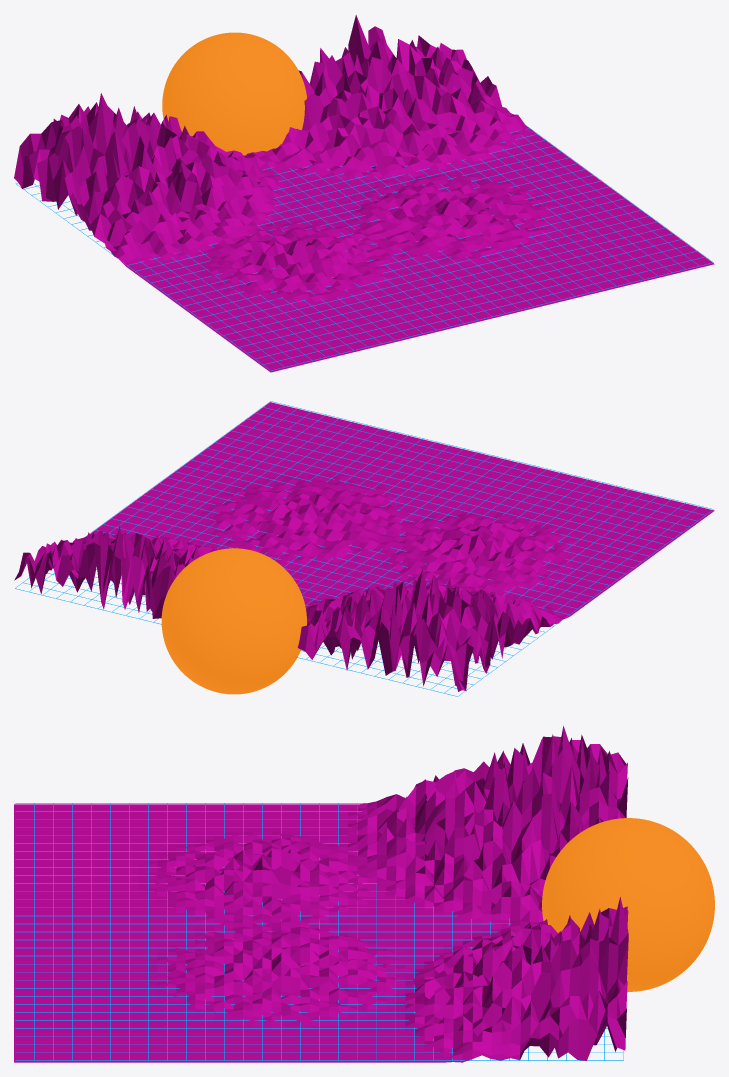
File: vapor.glb
3 views of the same model, one above another, from view 1: azimuth 30°, elevation 25°; view 2: azimuth 150°, elevation 25°; view 3: azimuth 270°, elevation 25° (orthographic). The views are drawn at different scales.
Visible parts, largest first — view 1: Land, Sun, Grid; view 2: Land, Sun, Grid; view 3: Land, Sun, Grid.
Boxes of the visible parts, x1,y1,x2,y2 form: Land: (14, 15, 714, 372); Sun: (162, 32, 306, 155); Grid: (15, 124, 713, 370); Land: (14, 402, 714, 691); Sun: (161, 548, 306, 694); Grid: (15, 401, 713, 696); Land: (14, 725, 628, 1062); Sun: (542, 818, 714, 991); Grid: (15, 803, 623, 1060).
Size of the model in its own units: 34.07 by 10.15 by 39.02.
